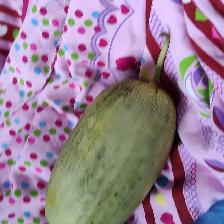gua: (77, 107, 145, 213)
